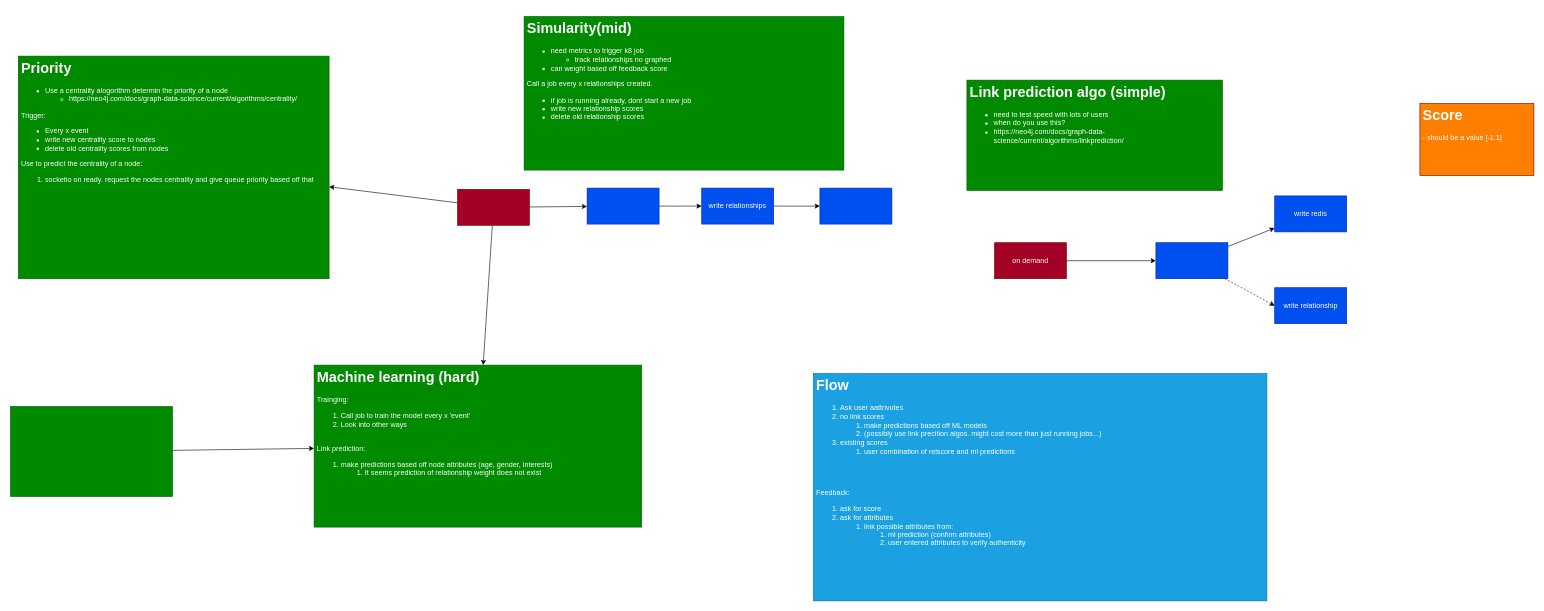
Image size: 1544x611. Some labels were removed from this diagram. Each missing label, with the centre of its shape:
create graph: the point at 622,206
k8 job: the point at 493,207
Online learning feed new relationships to kafka. read the data in batches...: the point at 91,451
query: the point at 1191,260
read relationships: the point at 855,206
